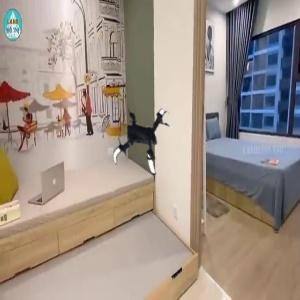drone: (104, 97, 186, 179)
